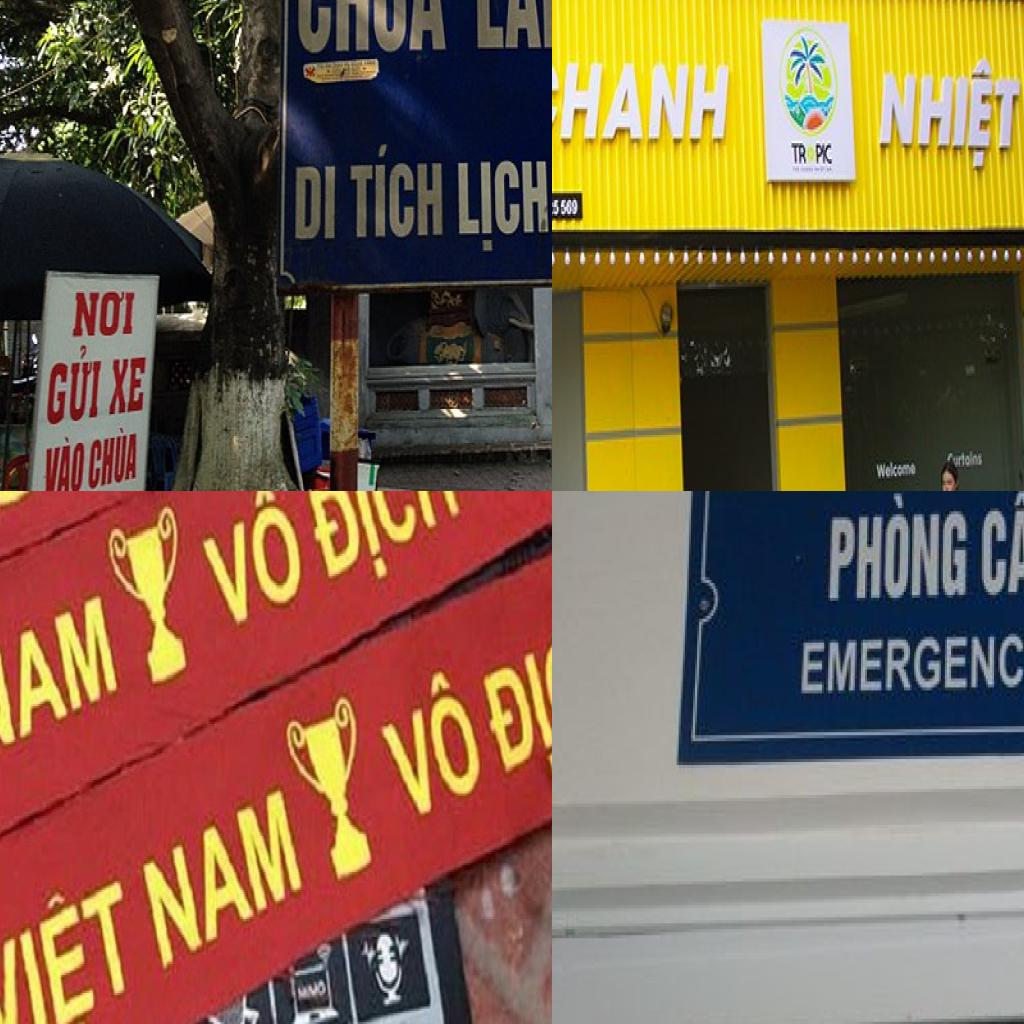text: (138, 780, 307, 977), (0, 580, 125, 773), (0, 856, 139, 1024), (366, 654, 494, 830), (300, 491, 471, 609), (793, 624, 1024, 705), (875, 56, 1024, 181), (552, 52, 732, 150), (189, 491, 310, 636), (826, 493, 972, 610), (453, 154, 552, 257), (349, 141, 448, 242), (290, 0, 447, 57), (42, 341, 106, 431), (975, 491, 1024, 603), (461, 0, 552, 60), (293, 155, 339, 245), (86, 424, 139, 491), (73, 290, 135, 340), (107, 354, 151, 418), (40, 432, 85, 491), (873, 456, 918, 488), (552, 193, 579, 222), (790, 141, 809, 168), (816, 140, 832, 164)
